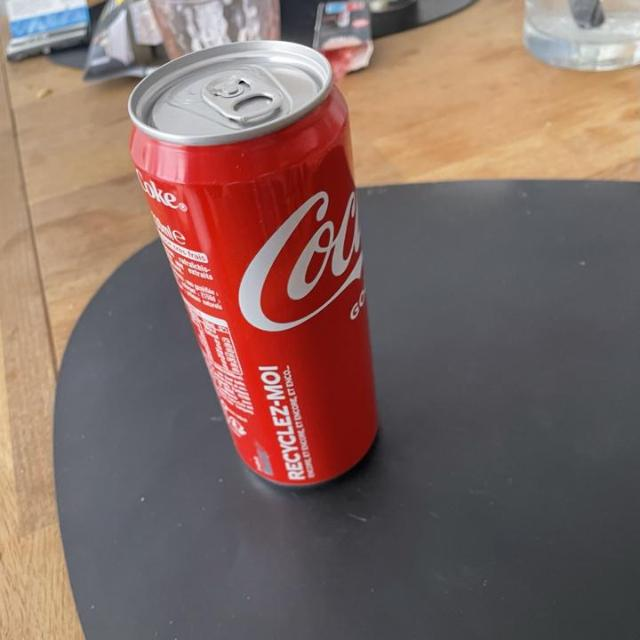can: (112, 24, 418, 503)
